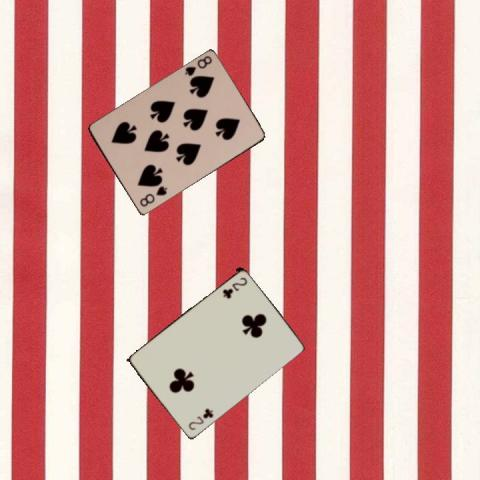2c: (185, 405, 215, 432), (219, 274, 248, 299)
8s: (137, 183, 168, 209), (182, 53, 213, 78)
